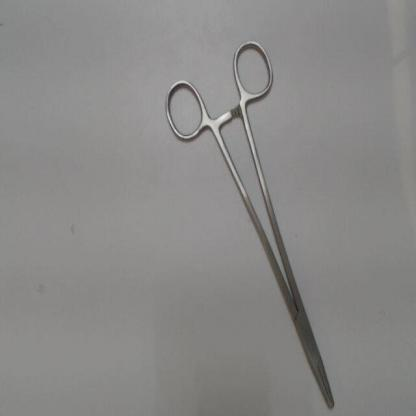8 Mayo Needle Holder: (157, 33, 342, 415)
